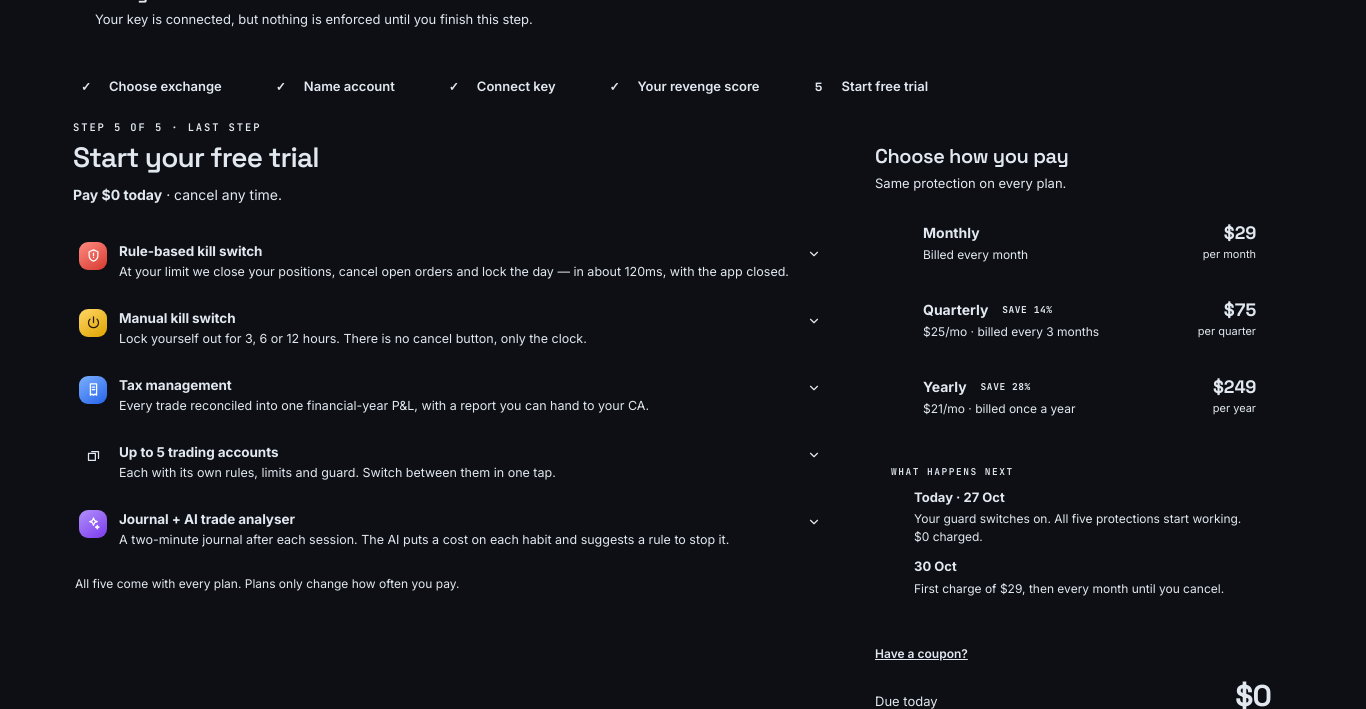
Test: billing step › says how long the discount lasts
Click the button "Have a coupon?" at (921, 654), box [875, 644, 968, 662]
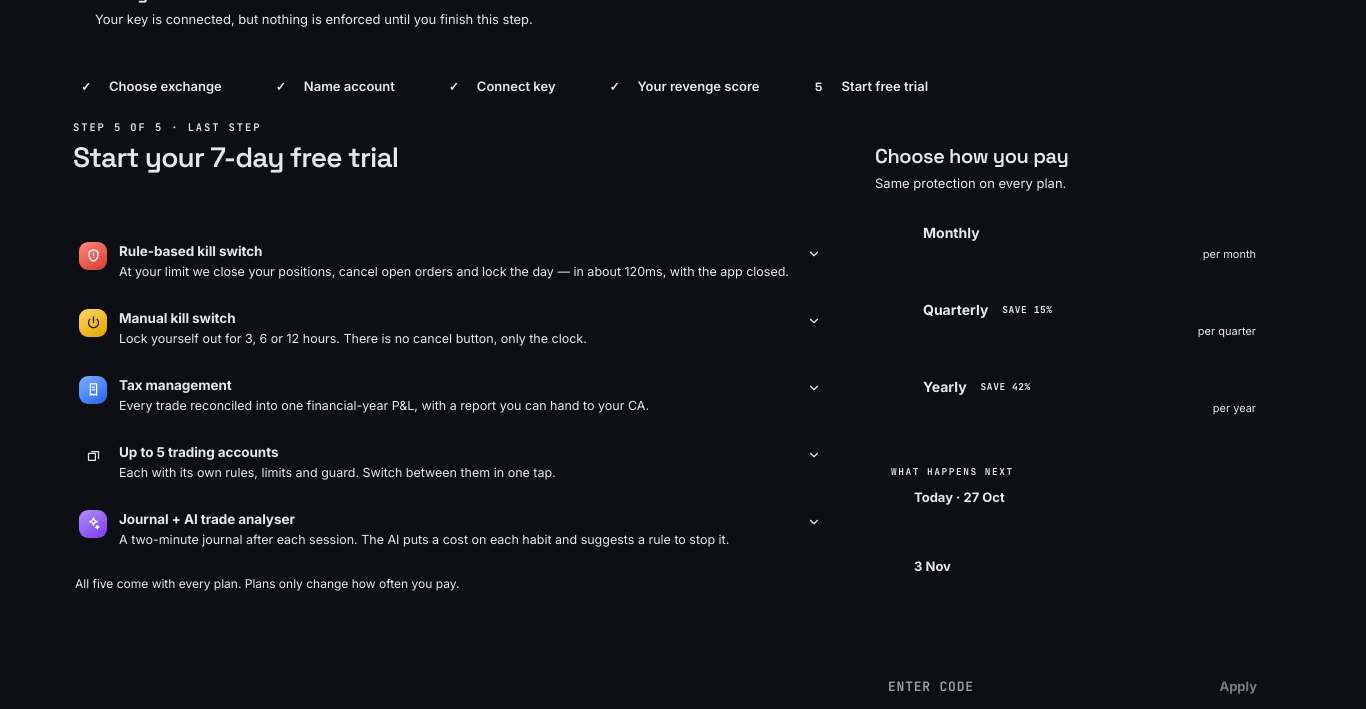
Type "first" into the field with placeholder "Enter code" at (1036, 687), box [875, 665, 1197, 708]
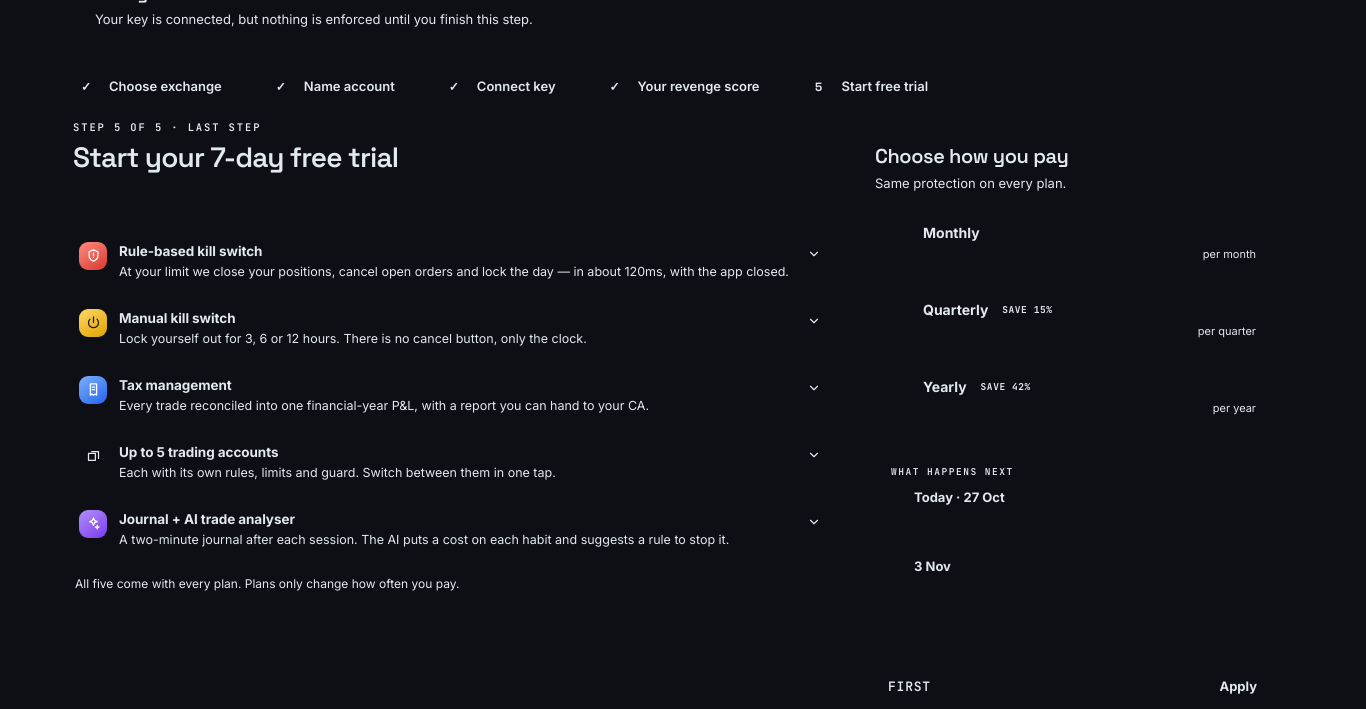
Click the button "Apply" at (1238, 687), box [1205, 665, 1271, 708]
(page scrolled)
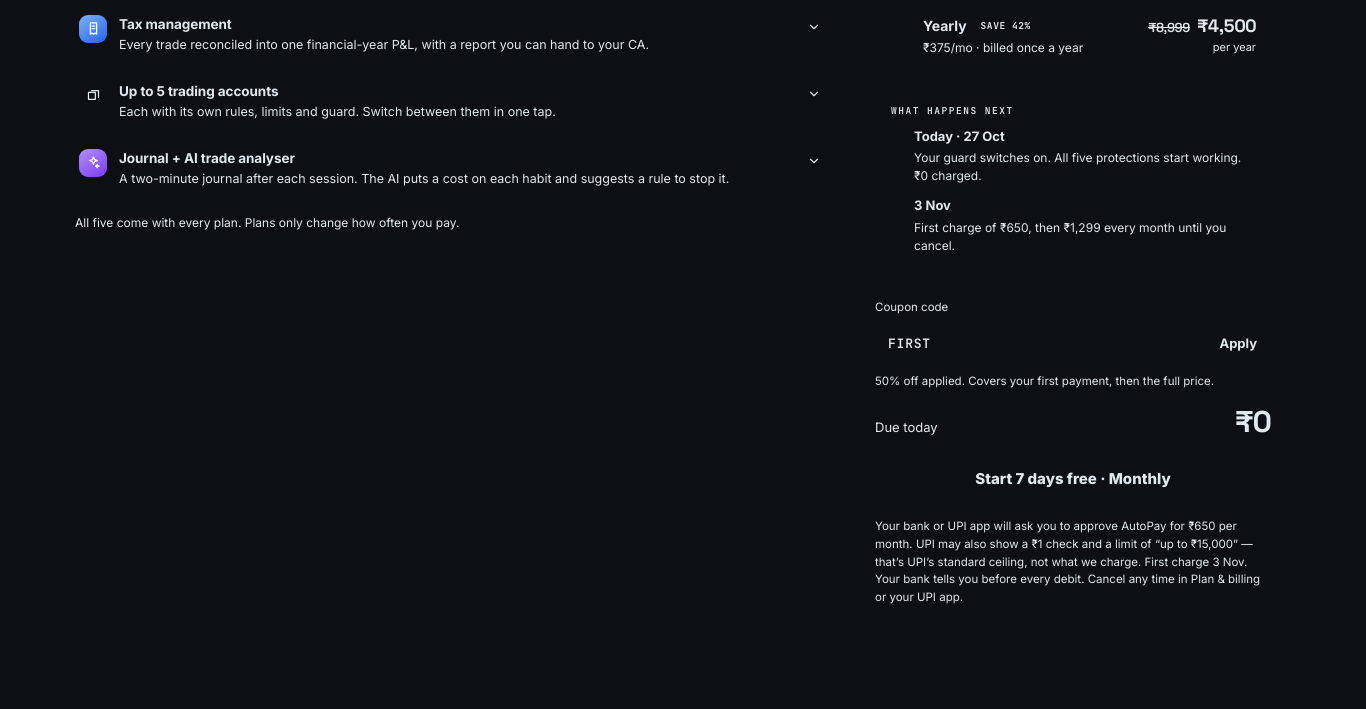
Now the text "Covers your first payment, then the full price" is shown, box [968, 374, 1214, 388]
